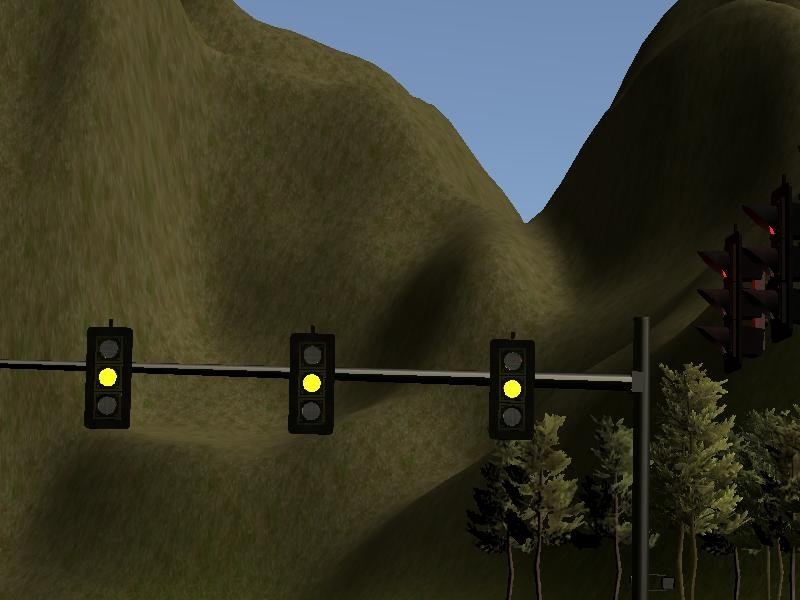YELLOW: (487, 335, 539, 442), (285, 328, 337, 435), (83, 323, 135, 430)
